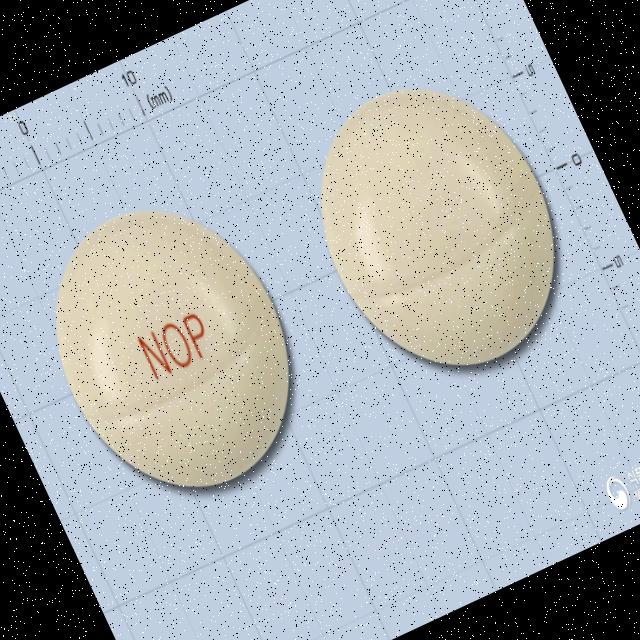Neopol Vaginal Soft Cap: (11, 169, 334, 528)
